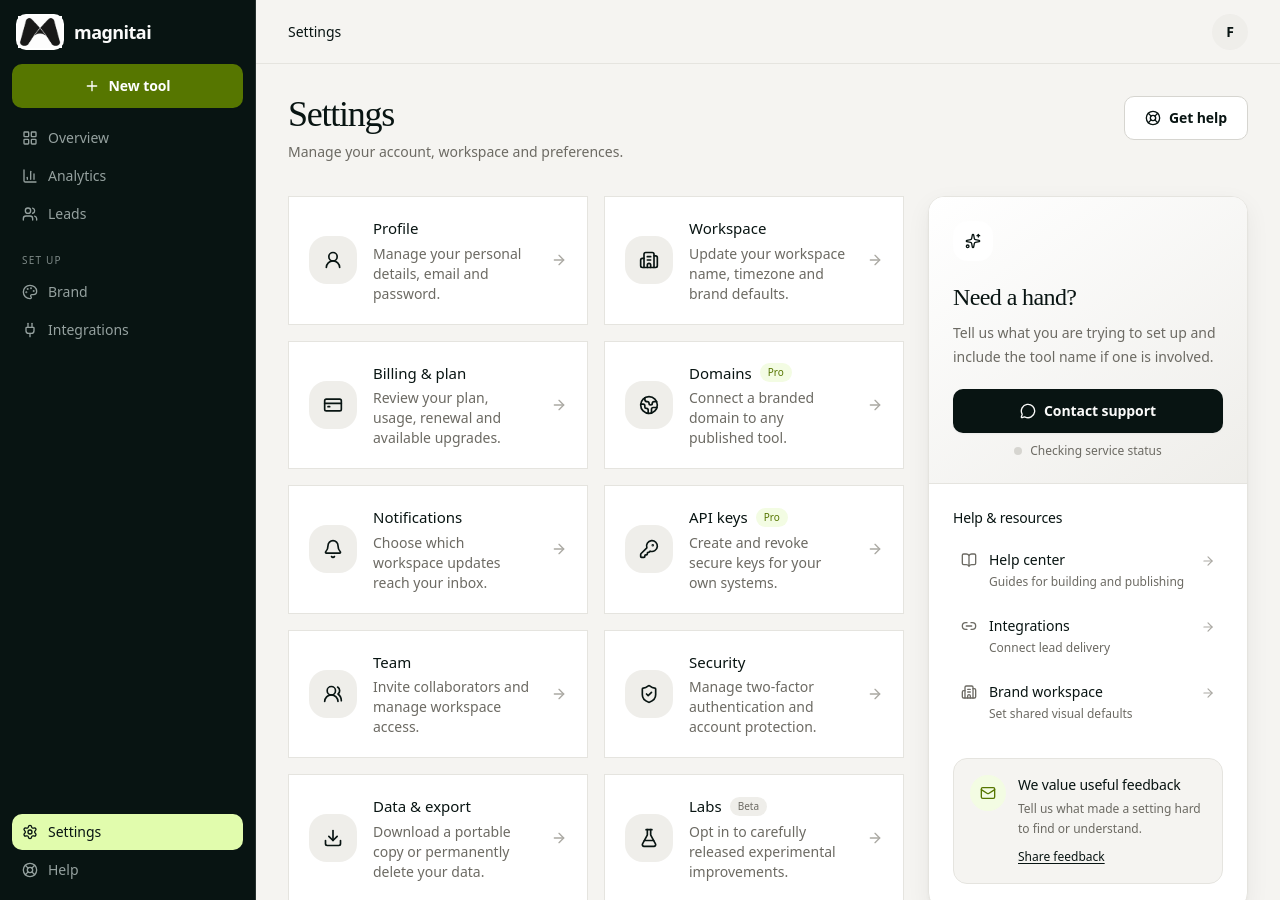
Test: settings route › two-factor authentication › reports how many recovery codes are left once enabled
Click the link "Security" at (754, 694), box [604,630,904,758]
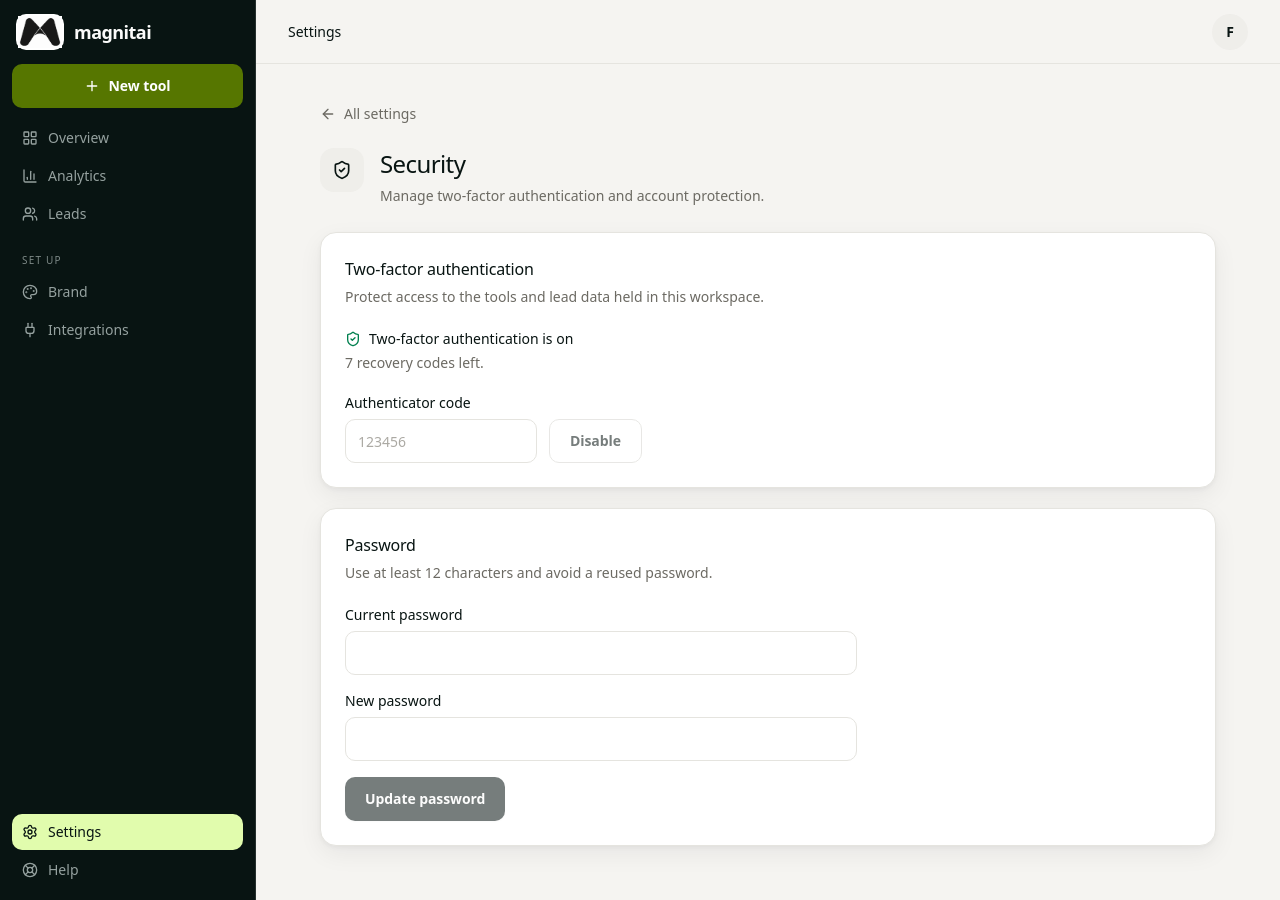
Result: the text "Two-factor authentication is on" is shown at [345,329,573,348]
Result: the text "7 recovery codes left." is shown at [345,353,484,372]
